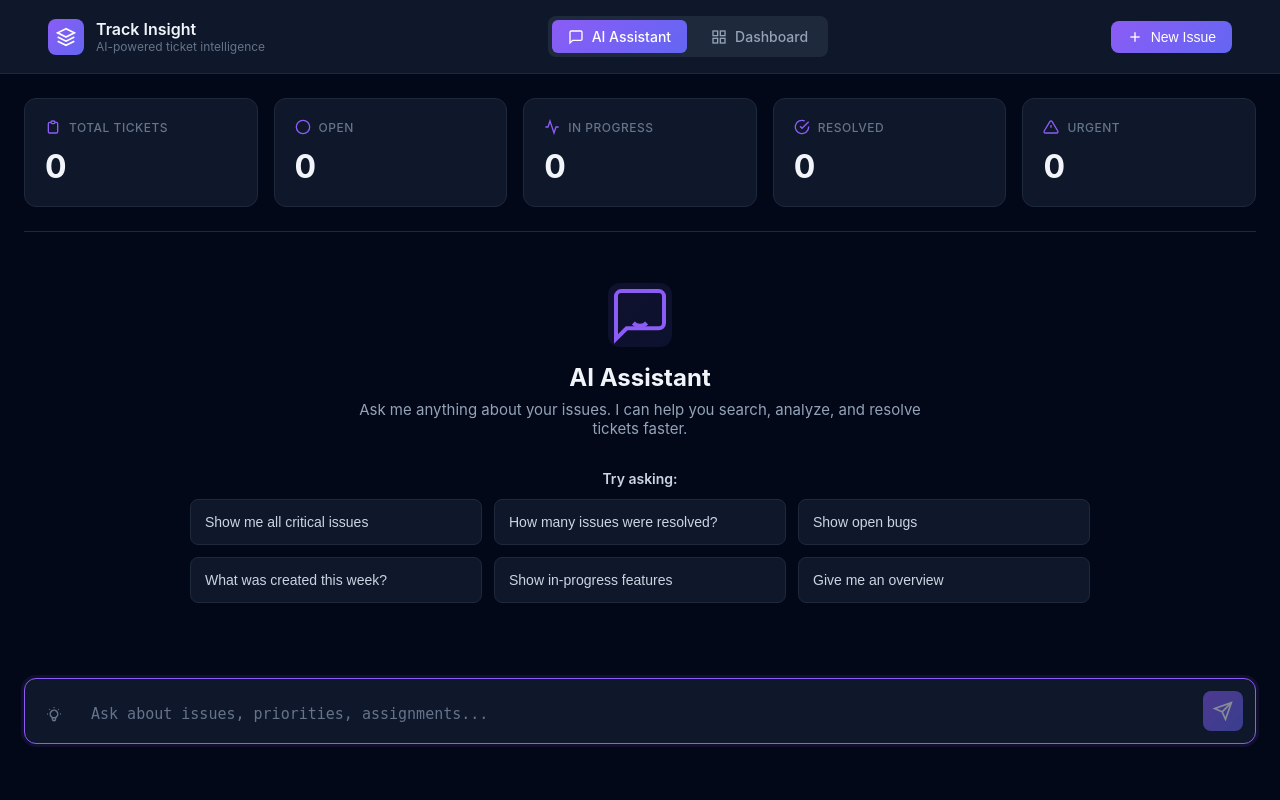
Test: AIAssistant.vue › adds user message to messages list when send is clicked
Type "Show open issues" into the text box with placeholder "Ask about issues, priorities, assignments..." at (637, 714), box [83,697,1191,731]
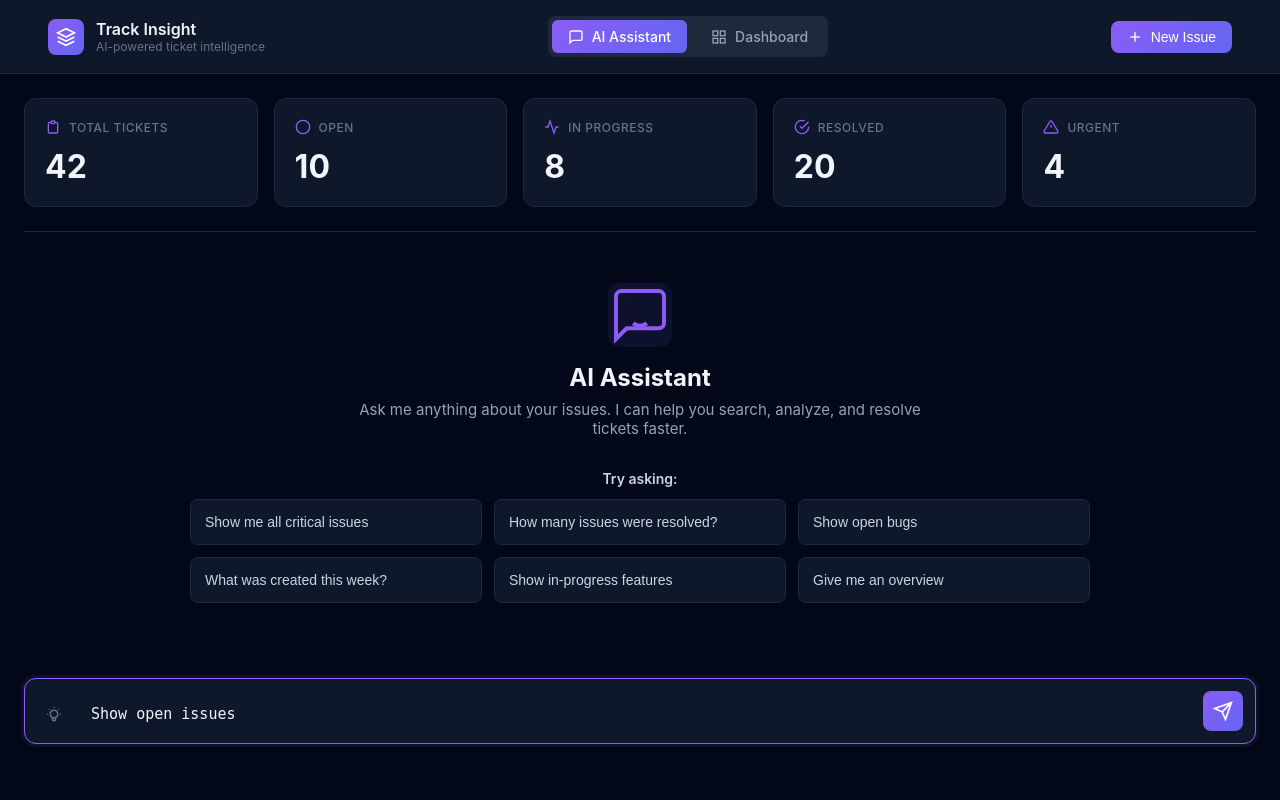
Click the button with class "btn-send" at (1223, 711), box [1203,691,1243,731]
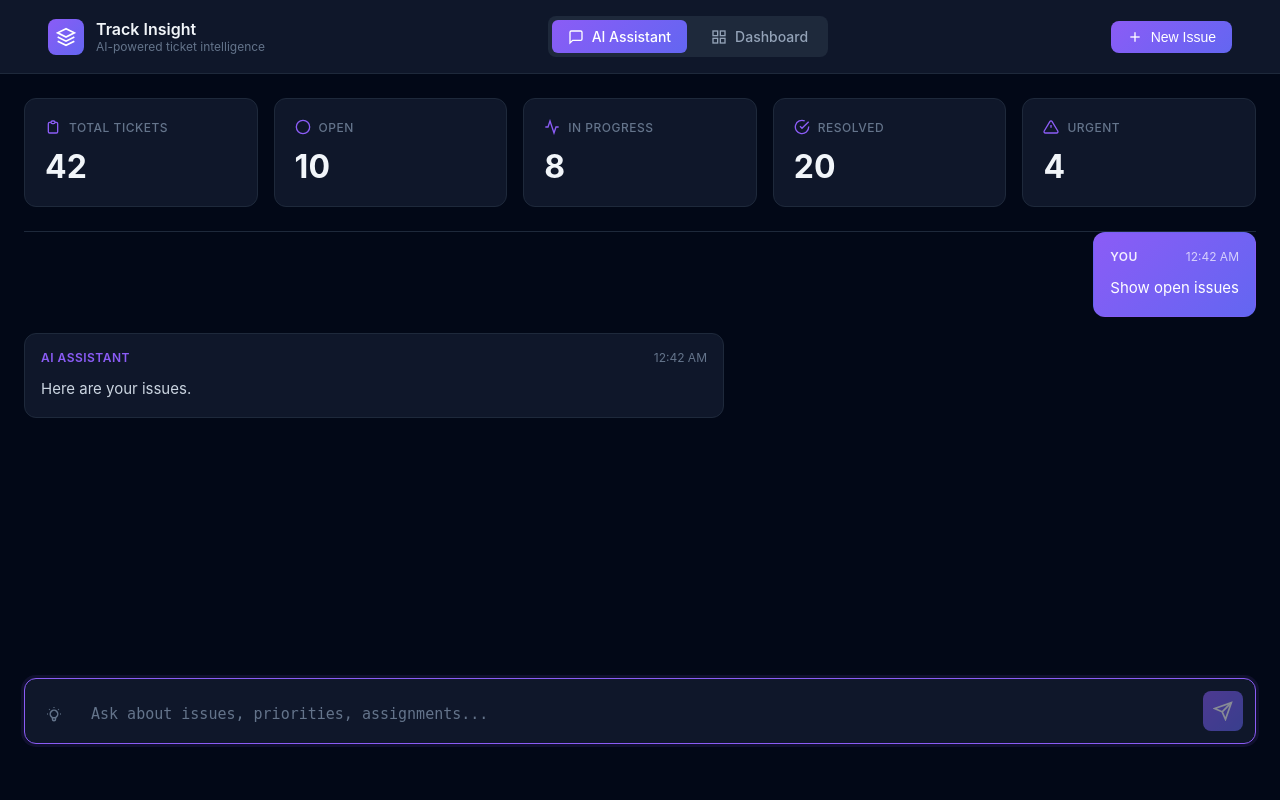
Expected: the element with class "user" is shown, [1093,232,1256,317]
Expected: the element with class "user" shows "Show open issues", [1110,278,1239,297]
